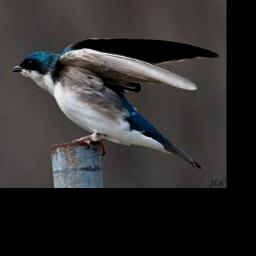Swallow: (9, 34, 220, 172)
